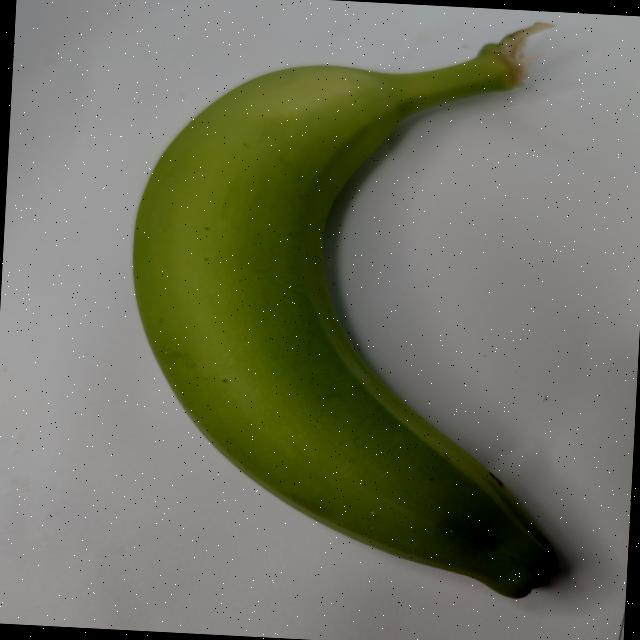Raw: (106, 0, 625, 627)
